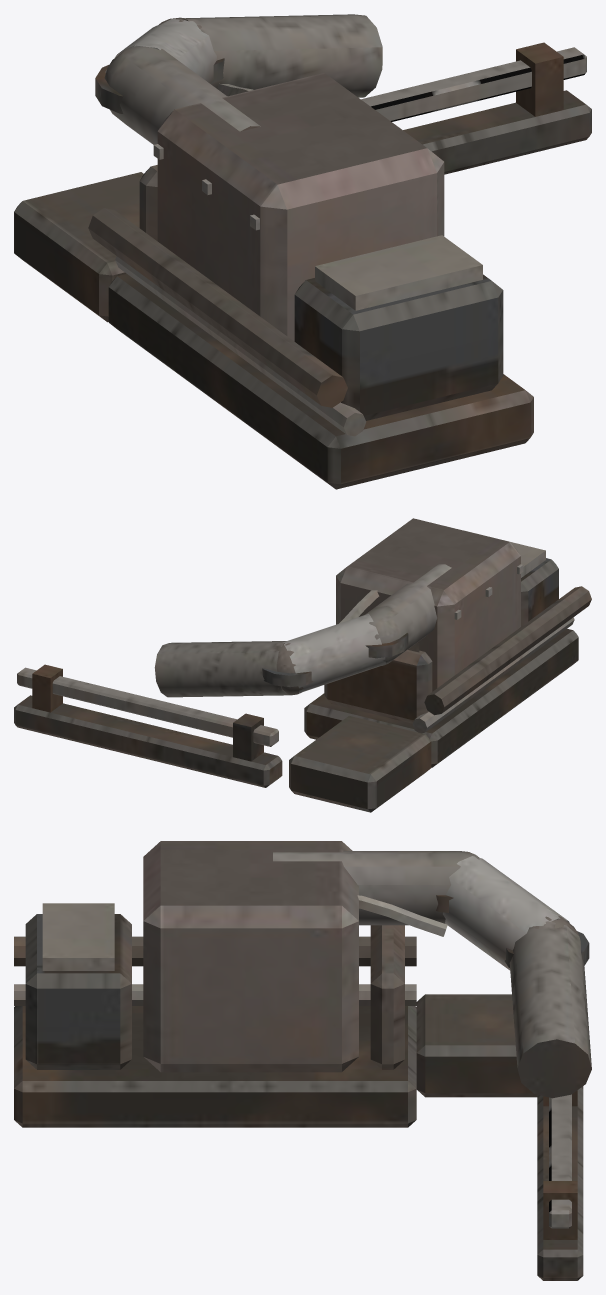
The model's file is cargo-bay-corner-nw.glb.
3 renders of one model, top to bottom at view 1: azimuth 30°, elevation 25°; view 2: azimuth 150°, elevation 25°; view 3: azimuth 270°, elevation 25°, orthographic. The views are drawn at different scales.
Visible parts, largest first — view 1: body; view 2: body; view 3: body.
Boxes of the visible parts, x1,y1,x2,y2 form: body: (14,14,591,489); body: (14,518,591,812); body: (14,841,591,1280).
Bounding box in the file's own units: 2.03 × 0.83 × 2.01.
1 material, 1 textured.
